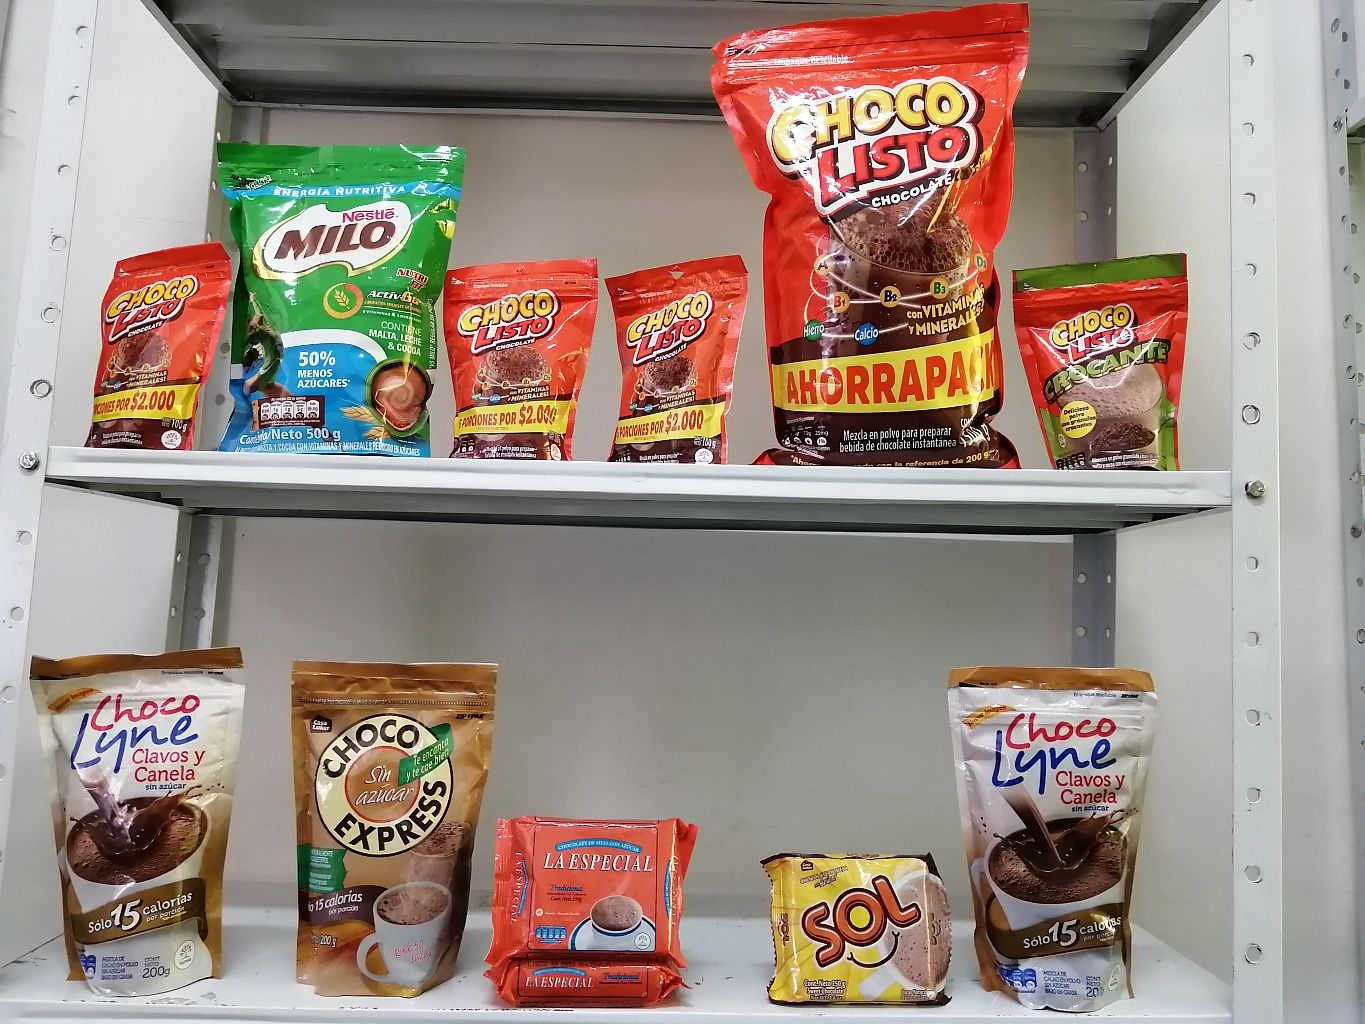COL0170102DYP10000: (1006, 262, 1189, 474)
COL0170103DYP1,500: (703, 5, 1029, 471)
COL0170205DYP50000: (215, 136, 465, 458)
